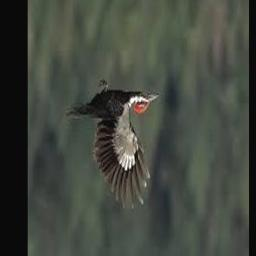Woodpecker: (66, 79, 159, 210)
